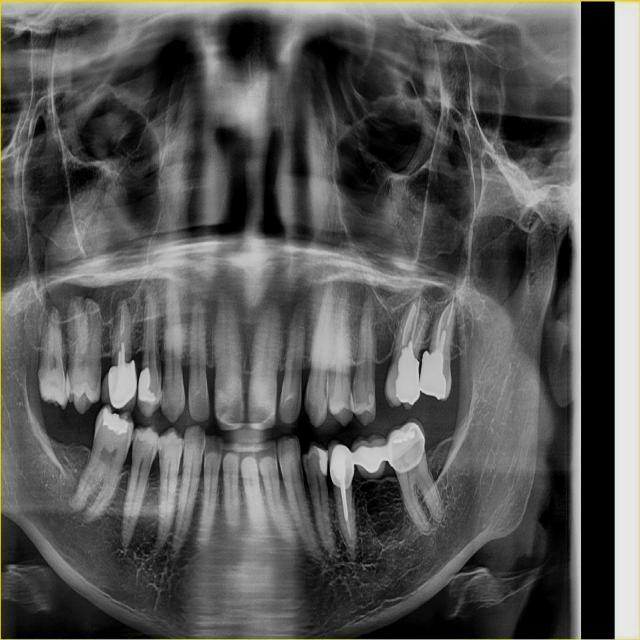Caries: (158, 444, 166, 463), (325, 475, 327, 486)
Crown: (386, 418, 426, 475), (101, 360, 137, 412), (351, 434, 387, 479), (327, 439, 354, 488)
Filling: (395, 338, 420, 404), (419, 350, 446, 400), (102, 407, 129, 435), (137, 367, 155, 403), (316, 448, 329, 476), (364, 386, 376, 414)
Periapical lesion: (111, 287, 138, 330)
Root Canal Treatment: (436, 302, 451, 350), (402, 304, 416, 346), (410, 297, 421, 342), (413, 318, 426, 350), (447, 296, 454, 329), (345, 514, 352, 540), (120, 306, 124, 336)
